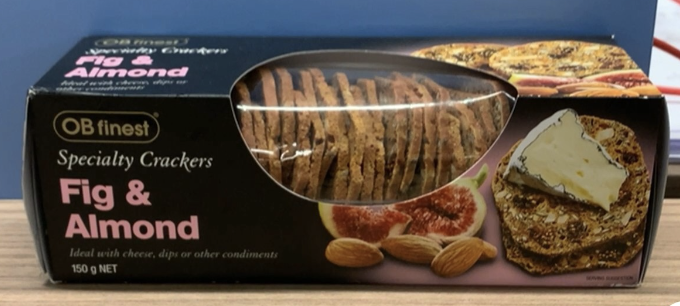crackers_150g: (64, 51, 641, 282)
